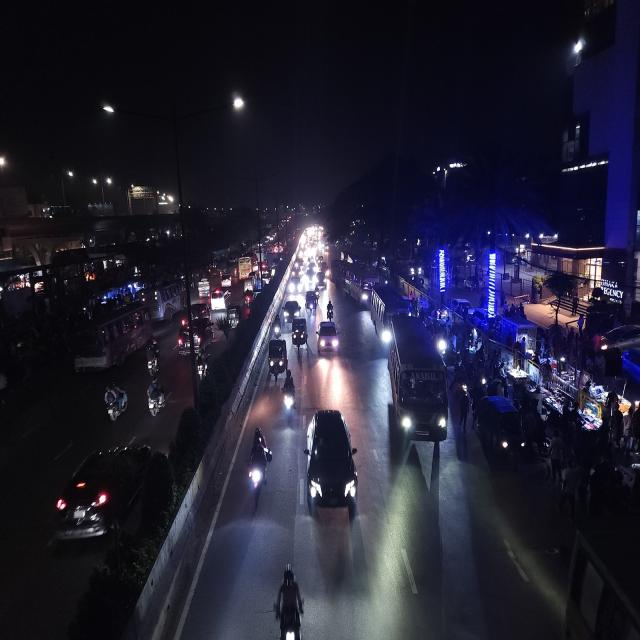bus: (563, 521, 640, 639), (385, 317, 449, 451), (69, 300, 153, 372), (368, 283, 412, 345), (340, 262, 372, 308), (149, 284, 188, 318), (238, 252, 254, 278)
car: (51, 433, 155, 547), (303, 405, 359, 521), (176, 316, 214, 356), (316, 317, 340, 359), (282, 298, 302, 326), (189, 299, 211, 322), (210, 288, 230, 310), (316, 272, 328, 288), (220, 274, 232, 287)
cng: (475, 393, 526, 470), (102, 381, 130, 426), (265, 334, 289, 384), (292, 315, 308, 356), (224, 302, 240, 330), (304, 291, 318, 315)
motorcycle: (242, 426, 272, 510), (102, 380, 130, 425), (281, 368, 297, 428), (145, 377, 167, 420), (195, 344, 213, 386), (144, 336, 162, 377), (270, 315, 284, 338), (325, 298, 335, 322)
pedestrian: (457, 389, 472, 433)
pickup_van: (197, 275, 211, 298)
